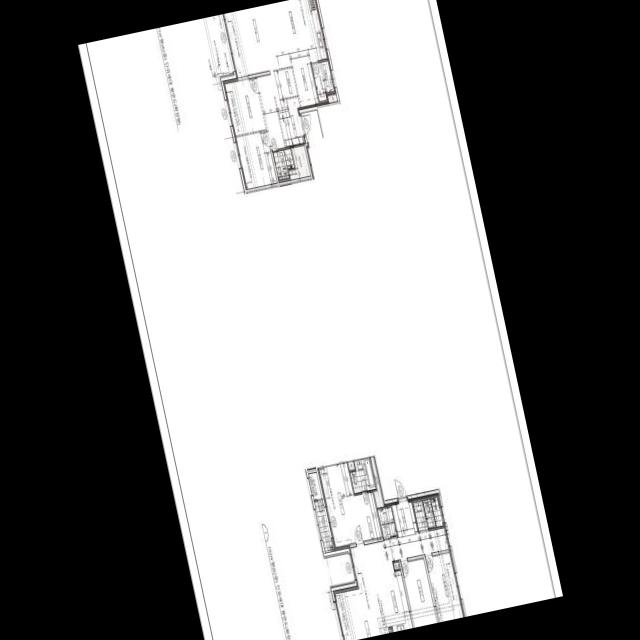background: (77, 0, 563, 640)
space_balconi: (313, 500, 333, 552)
space_bedroom: (317, 462, 363, 550), (425, 552, 464, 622), (222, 76, 265, 136), (400, 558, 437, 627), (234, 130, 276, 189)
space_dressroom: (353, 492, 382, 541)
space_front: (278, 97, 305, 147), (390, 497, 418, 537)
space_kitchen: (277, 0, 328, 109), (374, 570, 412, 633)
space_living_room: (333, 527, 449, 640), (224, 2, 291, 149)
space_multipurpose_space: (311, 60, 335, 101)
space_other: (288, 145, 310, 179), (370, 456, 383, 508), (377, 507, 396, 537), (279, 68, 297, 97), (327, 92, 337, 103), (347, 461, 354, 470), (393, 562, 399, 569)
space_outdoor_room: (308, 472, 321, 499)
space_toilet: (412, 497, 442, 530), (349, 457, 375, 493), (272, 148, 294, 180)
